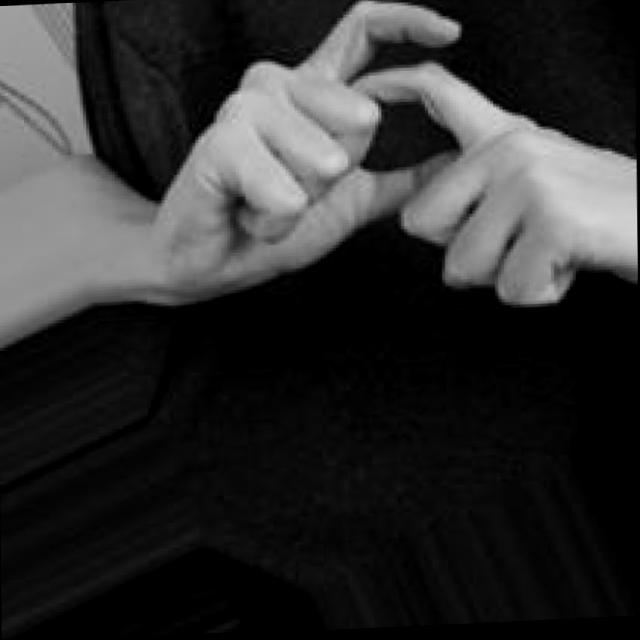G: (138, 0, 640, 325)
